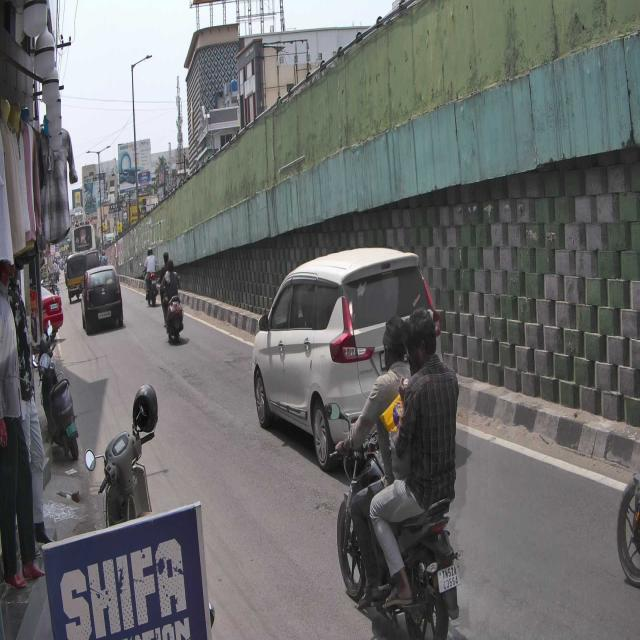double_rider: (325, 306, 459, 640)
